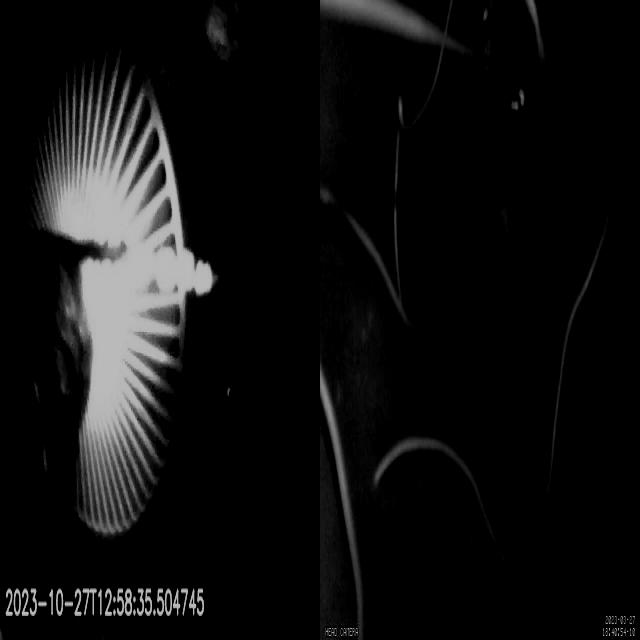white-dots: (156, 244, 212, 298)
